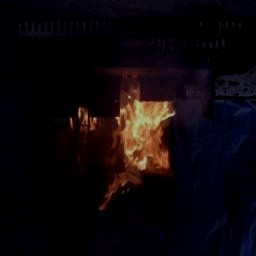fire: (91, 96, 182, 206)
